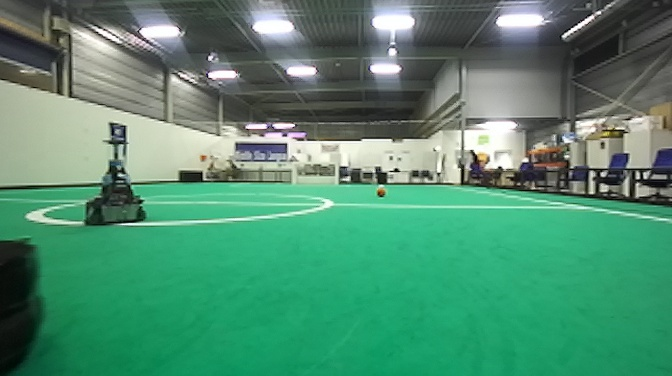ball: (371, 184, 391, 200)
goal: (291, 161, 337, 187)
goalpost: (290, 161, 297, 187), (333, 160, 339, 187)
robot: (77, 132, 152, 231)
